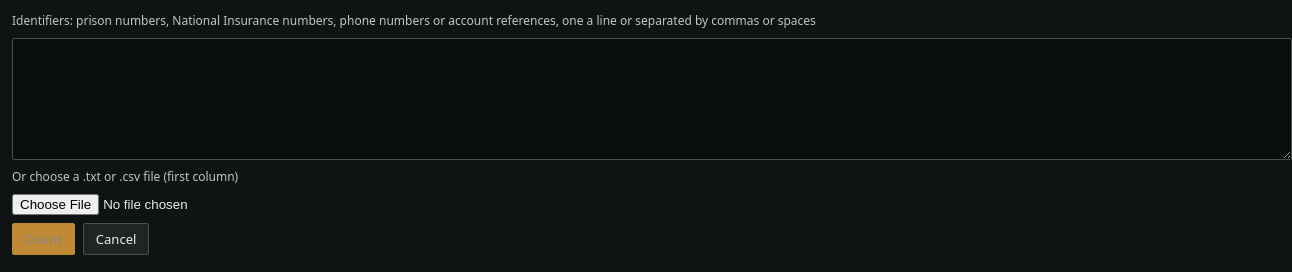
Test case: the count comes first › offers a paste box and a file, and cannot count nothing
The width and height of the screenshot is (1292, 272).
Expected: the file field labelled "Or choose a .txt or .csv file (first column)" is shown, [12,194,1291,215]
Expected: the button "Count" is disabled, [12,223,75,255]
Type "Z1234ZZ" into the text box labelled "Identifiers".
click(652, 99); type("Z1234ZZ")  # box [12,38,1291,160]
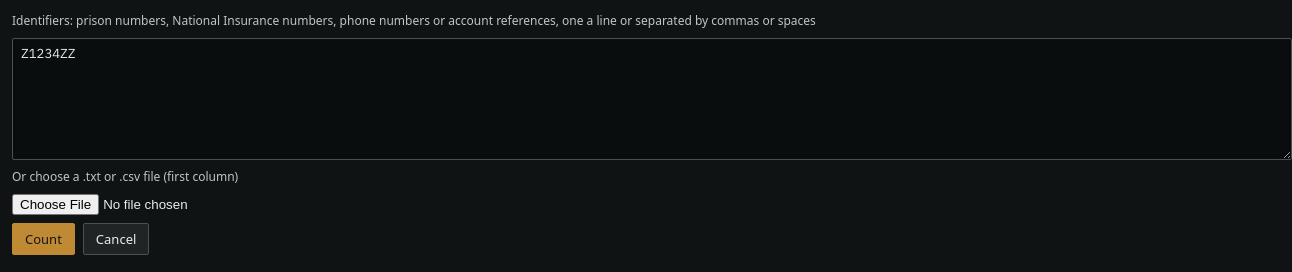
Now the button "Count" is enabled, box [12,223,75,255]
